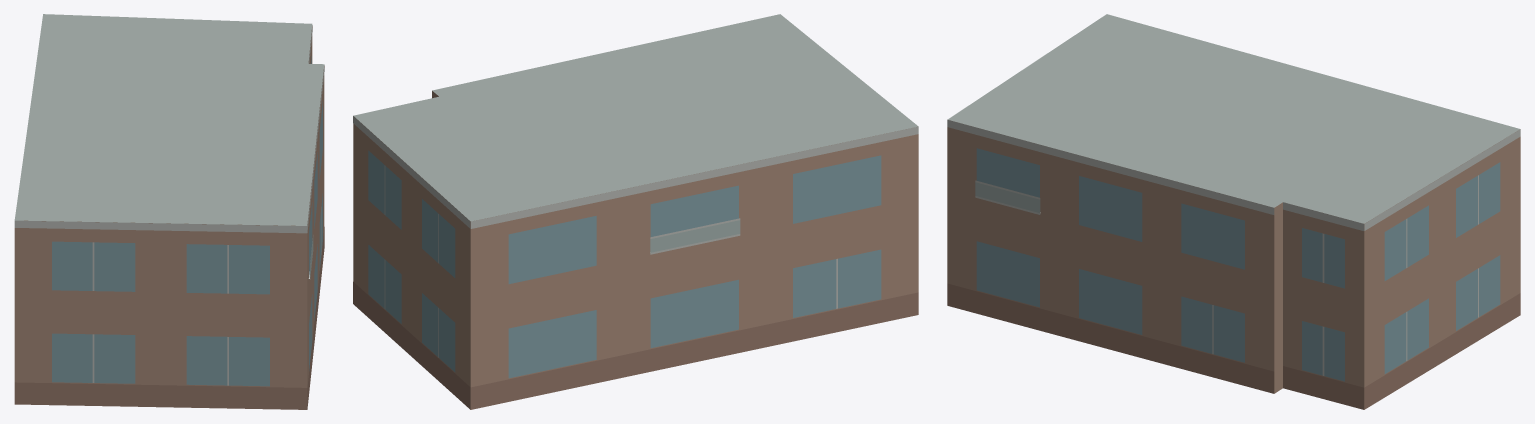
Rendered from survey-upis-32786248.glb.
3 views of the same model, side by side, from view 1: azimuth 30°, elevation 25°; view 2: azimuth 150°, elevation 25°; view 3: azimuth 270°, elevation 25° (orthographic). The views are drawn at different scales.
Visible parts, largest first — view 1: survey-upis-32786248.tmp; view 2: survey-upis-32786248.tmp; view 3: survey-upis-32786248.tmp.
Boxes of the visible parts, x1,y1,x2,y2 form: survey-upis-32786248.tmp: (14, 14, 324, 409); survey-upis-32786248.tmp: (353, 14, 918, 409); survey-upis-32786248.tmp: (947, 14, 1520, 409).
Size of the model in its own units: 14.76 by 6.1 by 17.04.
